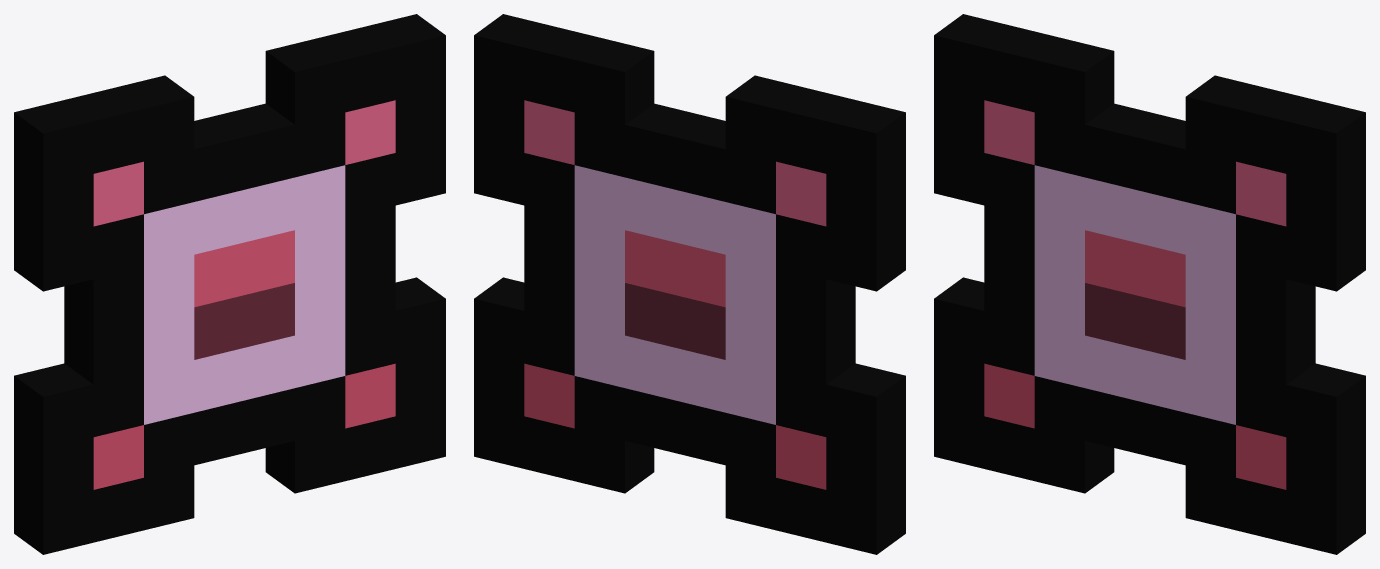
The model's file is Caught Mob Slime Default.glb.
The picture shows the model from 3 angles, left to right: view 1: azimuth 30°, elevation 25°; view 2: azimuth 150°, elevation 25°; view 3: azimuth 330°, elevation 25°; orthographic projection.
Visible parts, largest first — view 1: generated(Clone); view 2: generated(Clone); view 3: generated(Clone).
Boxes of the visible parts, box(x1,y1,x2,y2) form: generated(Clone): box(14, 14, 445, 554); generated(Clone): box(474, 14, 905, 554); generated(Clone): box(934, 14, 1365, 554).
Bounding box in the file's own units: 8 × 8 × 1.
Materials: 1 (1 with a texture image).
